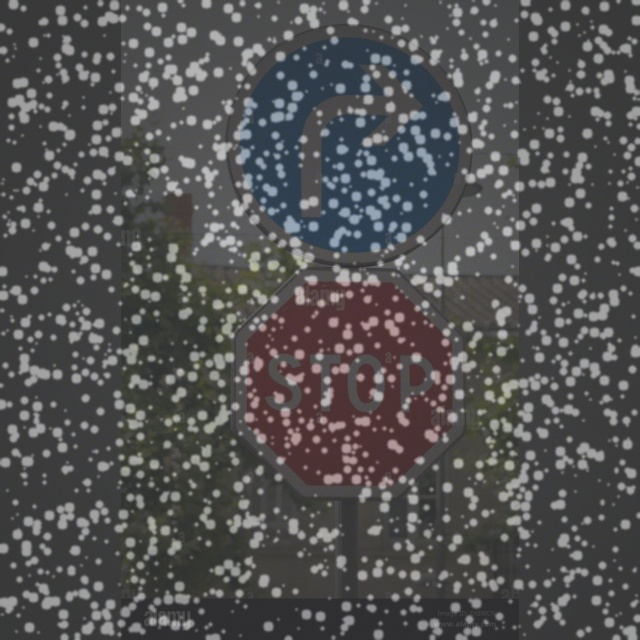Compulsory_Turn_Right_Ahead: (226, 28, 477, 262)
